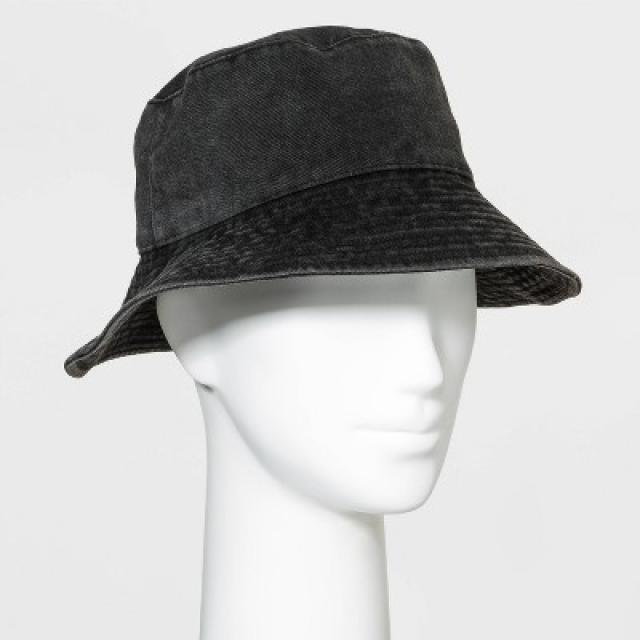hat: (58, 16, 592, 384)
